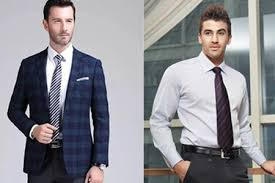F_belt: (178, 141, 246, 161)
F_shirt: (146, 51, 271, 169)
F_tie: (207, 64, 239, 154), (46, 52, 71, 150)
